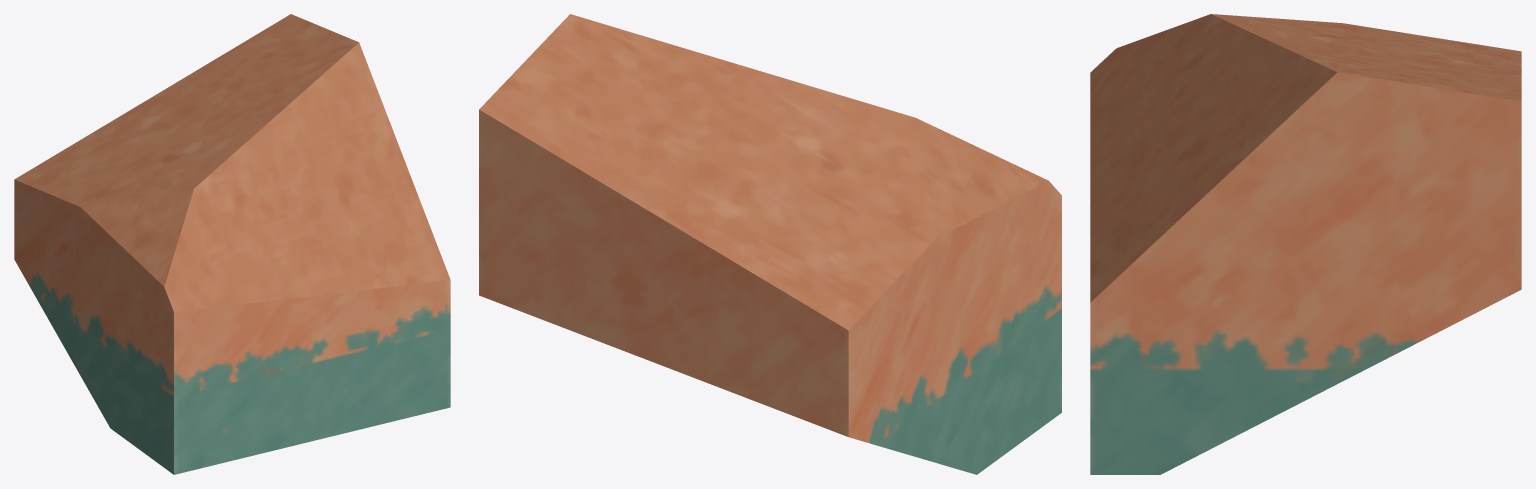
File: townwall_tower_s01.fbx
3 renders of one model, left to right at view 1: azimuth 30°, elevation 25°; view 2: azimuth 150°, elevation 25°; view 3: azimuth 270°, elevation 25°, orthographic. The views are drawn at different scales.
Visible parts, largest first — view 1: townwall_tower_s01; view 2: townwall_tower_s01; view 3: townwall_tower_s01.
Part boxes in pixels (x1,y1,x2,y2): townwall_tower_s01: [14, 14, 450, 474]; townwall_tower_s01: [479, 14, 1061, 474]; townwall_tower_s01: [1090, 14, 1521, 474].
Bounding box in the file's own units: 6.6 × 6.8 × 6.6.
